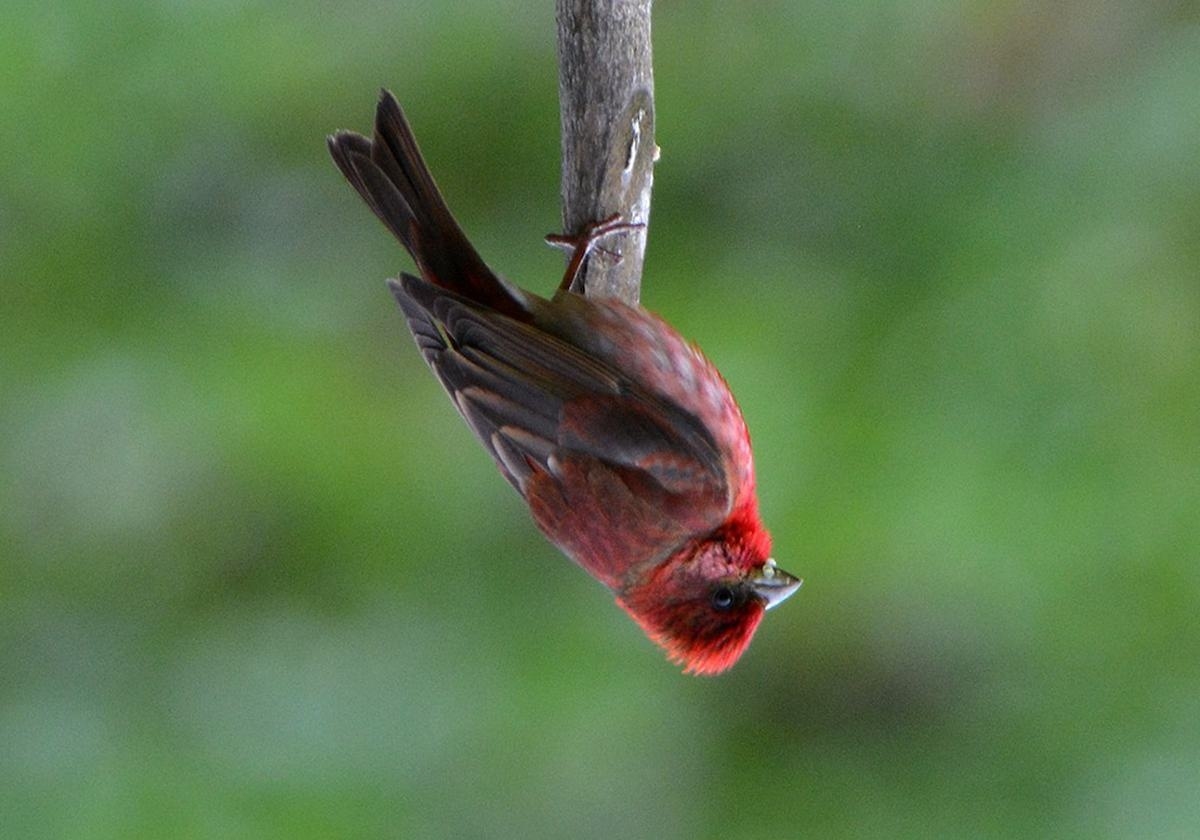rosefinch: (376, 150, 797, 682)
